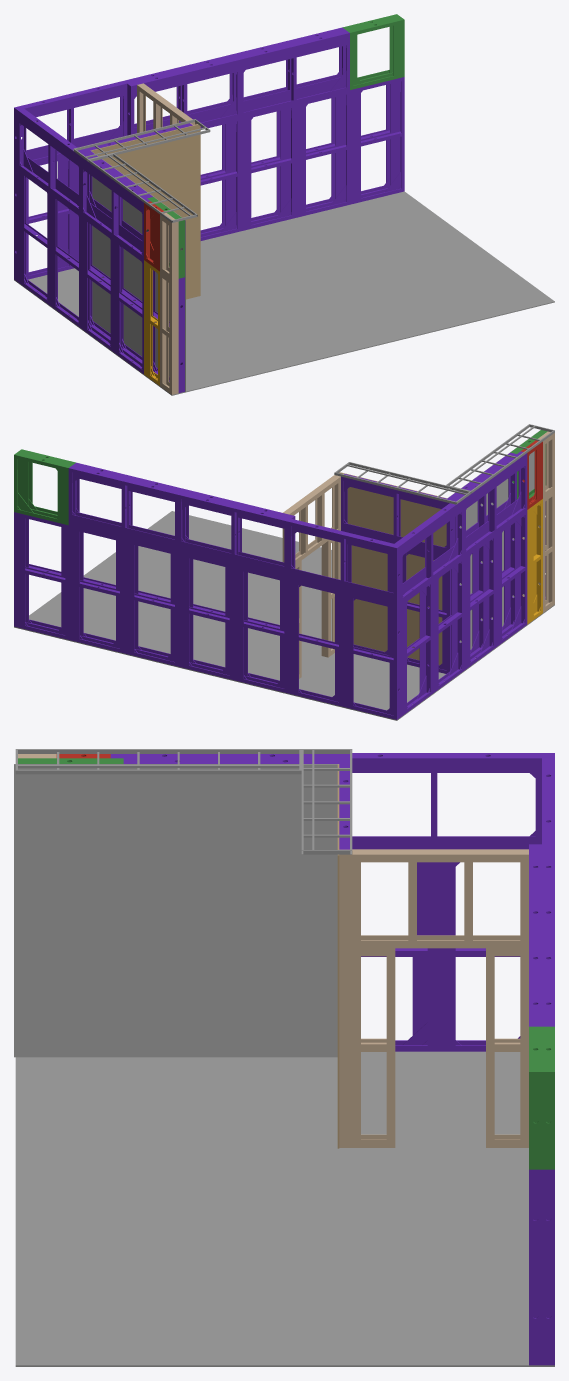
File: model-2b33bdee2d12.glb
3 renders of one model, top to bottom at view 1: azimuth 30°, elevation 25°; view 2: azimuth 150°, elevation 25°; view 3: azimuth 270°, elevation 25°, orthographic. The views are drawn at different scales.
Visible parts, largest first — view 1: Пол 16 мм, Body18 (×14), Body17 (×9), DSP 16mm (×2), MDF 6mm (×2), Body23 (×2), Торец 2, Body15, Body20; view 2: Body18 (×24), Пол 16 мм, Body17 (×20), DSP 16mm (×2), Body22 (×12), Body15 (×11), MDF 6mm (×2), Body23, Body19, end A, Body13, 40x20x2 1 (+5 smaller); view 3: Пол 16 мм, MDF 6mm (×2), Body16 (×5), Body17 (×2), Body15 (×6), MDF 6mm 300x1880, Body18 (×2), upright 2-1 (×2), upright 2-2 (×2), Panel 4 (×2), MDF 6mm 300x1136, Body23 (×2) (+8 smaller).
Boxes of the visible parts, x1,y1,x2,y2 form: Пол 16 мм: [14, 191, 554, 395]; Body18 (×14): [17, 77, 400, 352]; Body17 (×9): [21, 33, 360, 261]; DSP 16mm (×2): [91, 124, 200, 299]; MDF 6mm (×2): [92, 176, 185, 391]; Body23 (×2): [144, 107, 295, 375]; Торец 2: [172, 279, 177, 394]; Body15: [179, 277, 184, 392]; Body20: [393, 23, 404, 75]; Body18 (×24): [14, 454, 525, 713]; Пол 16 мм: [14, 511, 554, 720]; Body17 (×20): [61, 466, 520, 707]; DSP 16mm (×2): [339, 472, 446, 665]; Body22 (×12): [65, 468, 527, 716]; Body15 (×11): [69, 463, 524, 719]; MDF 6mm (×2): [460, 452, 534, 649]; Body23: [527, 509, 533, 620]; Body19: [57, 469, 68, 521]; end A: [322, 541, 327, 657]; Body13: [536, 505, 540, 611]; 40x20x2 1: [334, 472, 456, 504]; Пол 16 мм: [15, 1051, 554, 1366]; MDF 6mm (×2): [14, 793, 337, 1057]; Body16 (×5): [110, 753, 553, 1365]; Body17 (×2): [352, 836, 535, 1045]; Body15 (×6): [340, 753, 553, 1026]; MDF 6mm 300x1880: [14, 764, 216, 793]; Body18 (×2): [352, 753, 535, 1035]; upright 2-1 (×2): [386, 956, 528, 1139]; upright 2-2 (×2): [352, 956, 494, 1139]; Panel 4 (×2): [340, 854, 350, 1147]; MDF 6mm 300x1136: [216, 764, 338, 793]; Body23 (×2): [333, 758, 535, 1045].
Size of the model in its own units: 7 by 3.06 by 5.02.
